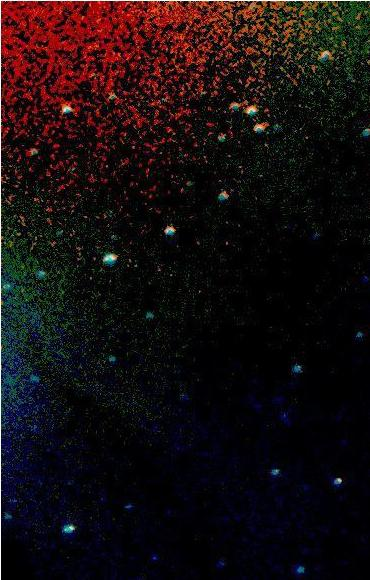star: (75, 554, 105, 580)
